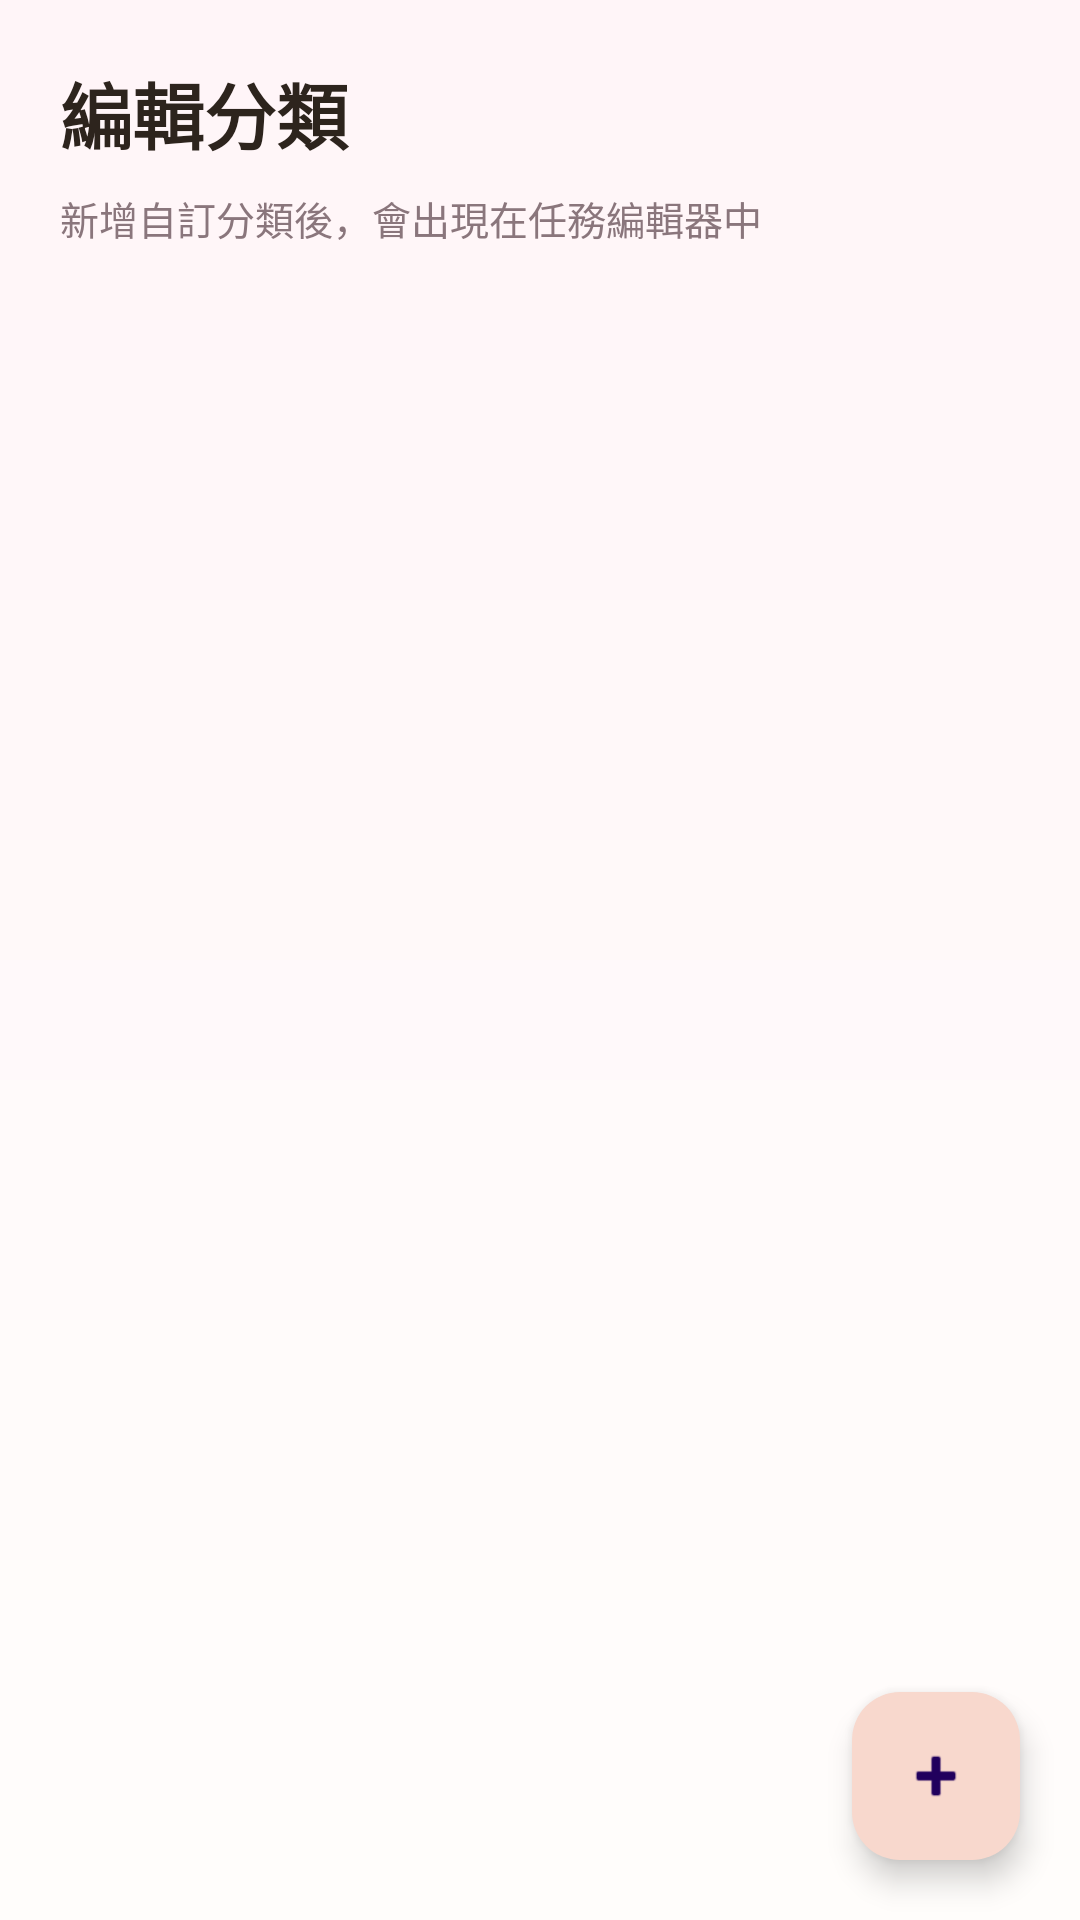

Icon bounding boxes for this 1080*1920 phone screenshot, format (x1, y1, x2, y2):
新增分類: (852, 1692, 1020, 1860)
